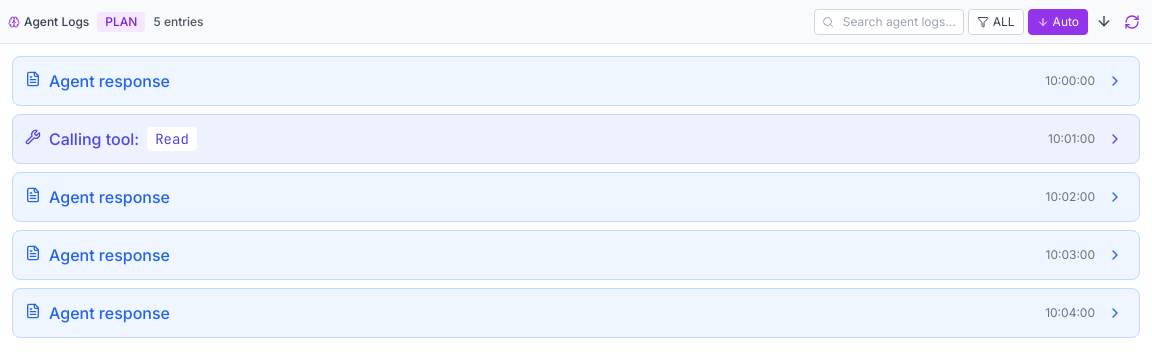
Test: AgentLogsPanel Component › Event Type Filter Menu › should filter by FILE event type
This screenshot has width=1152, height=355.
Check: the text "5 entries" is shown, box [153,14,204,30]
Note: Open filter menu
Click the button titled "Filter by event type" at point(996, 22), box [968,8,1024,34]
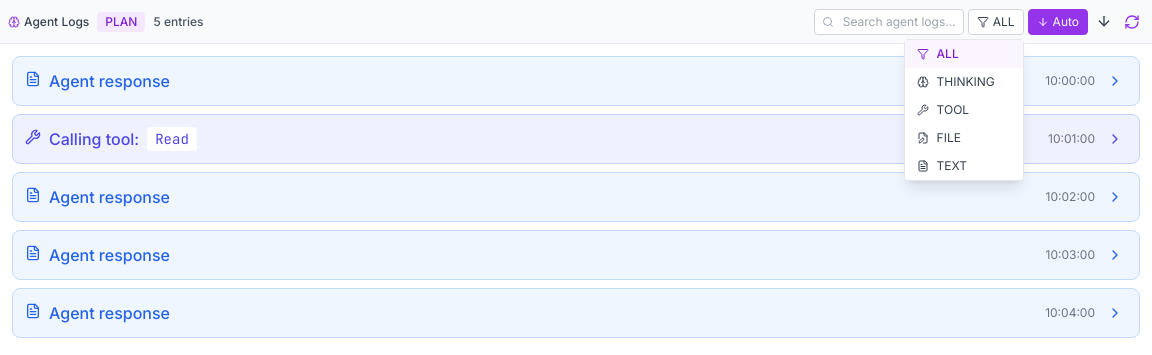
Note: Select FILE filter
Click the button "FILE" at point(964, 138), box [905,124,1023,152]
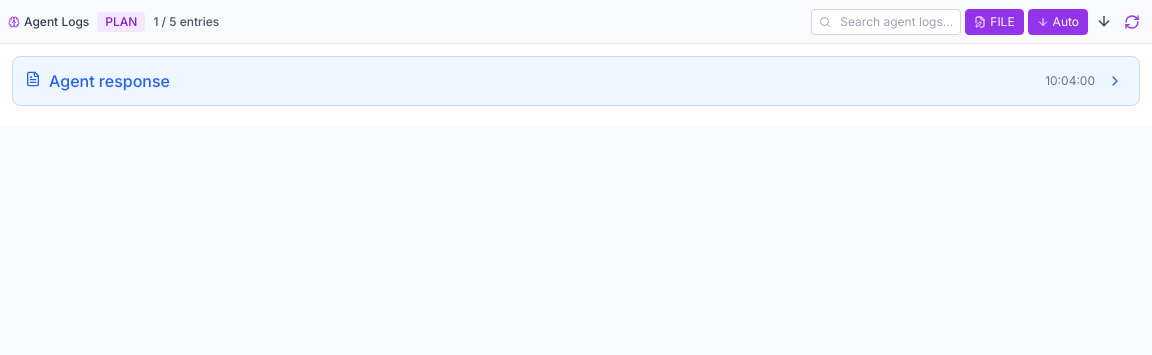
Check: the text "1 / 5 entries" is shown, box [153,14,219,30]
